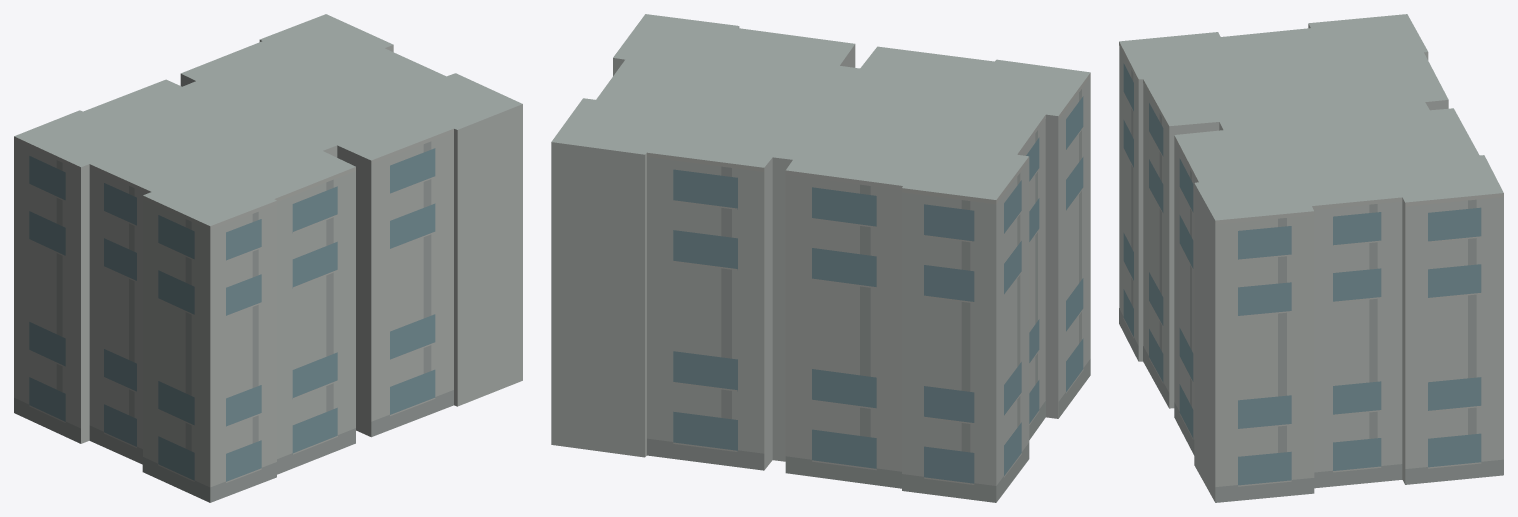
Rendered from survey-upis-32884880.glb.
The picture shows the model from 3 angles, left to right: view 1: azimuth 30°, elevation 25°; view 2: azimuth 150°, elevation 25°; view 3: azimuth 270°, elevation 25°; orthographic projection. The views are drawn at different scales.
Visible parts, largest first — view 1: survey-upis-32884880.tmp; view 2: survey-upis-32884880.tmp; view 3: survey-upis-32884880.tmp.
Boxes of the visible parts, x1,y1,x2,y2 form: survey-upis-32884880.tmp: (14, 14, 522, 502); survey-upis-32884880.tmp: (551, 14, 1090, 502); survey-upis-32884880.tmp: (1119, 14, 1503, 502).
Size of the model in its own units: 26.74 by 17.04 by 21.05.
